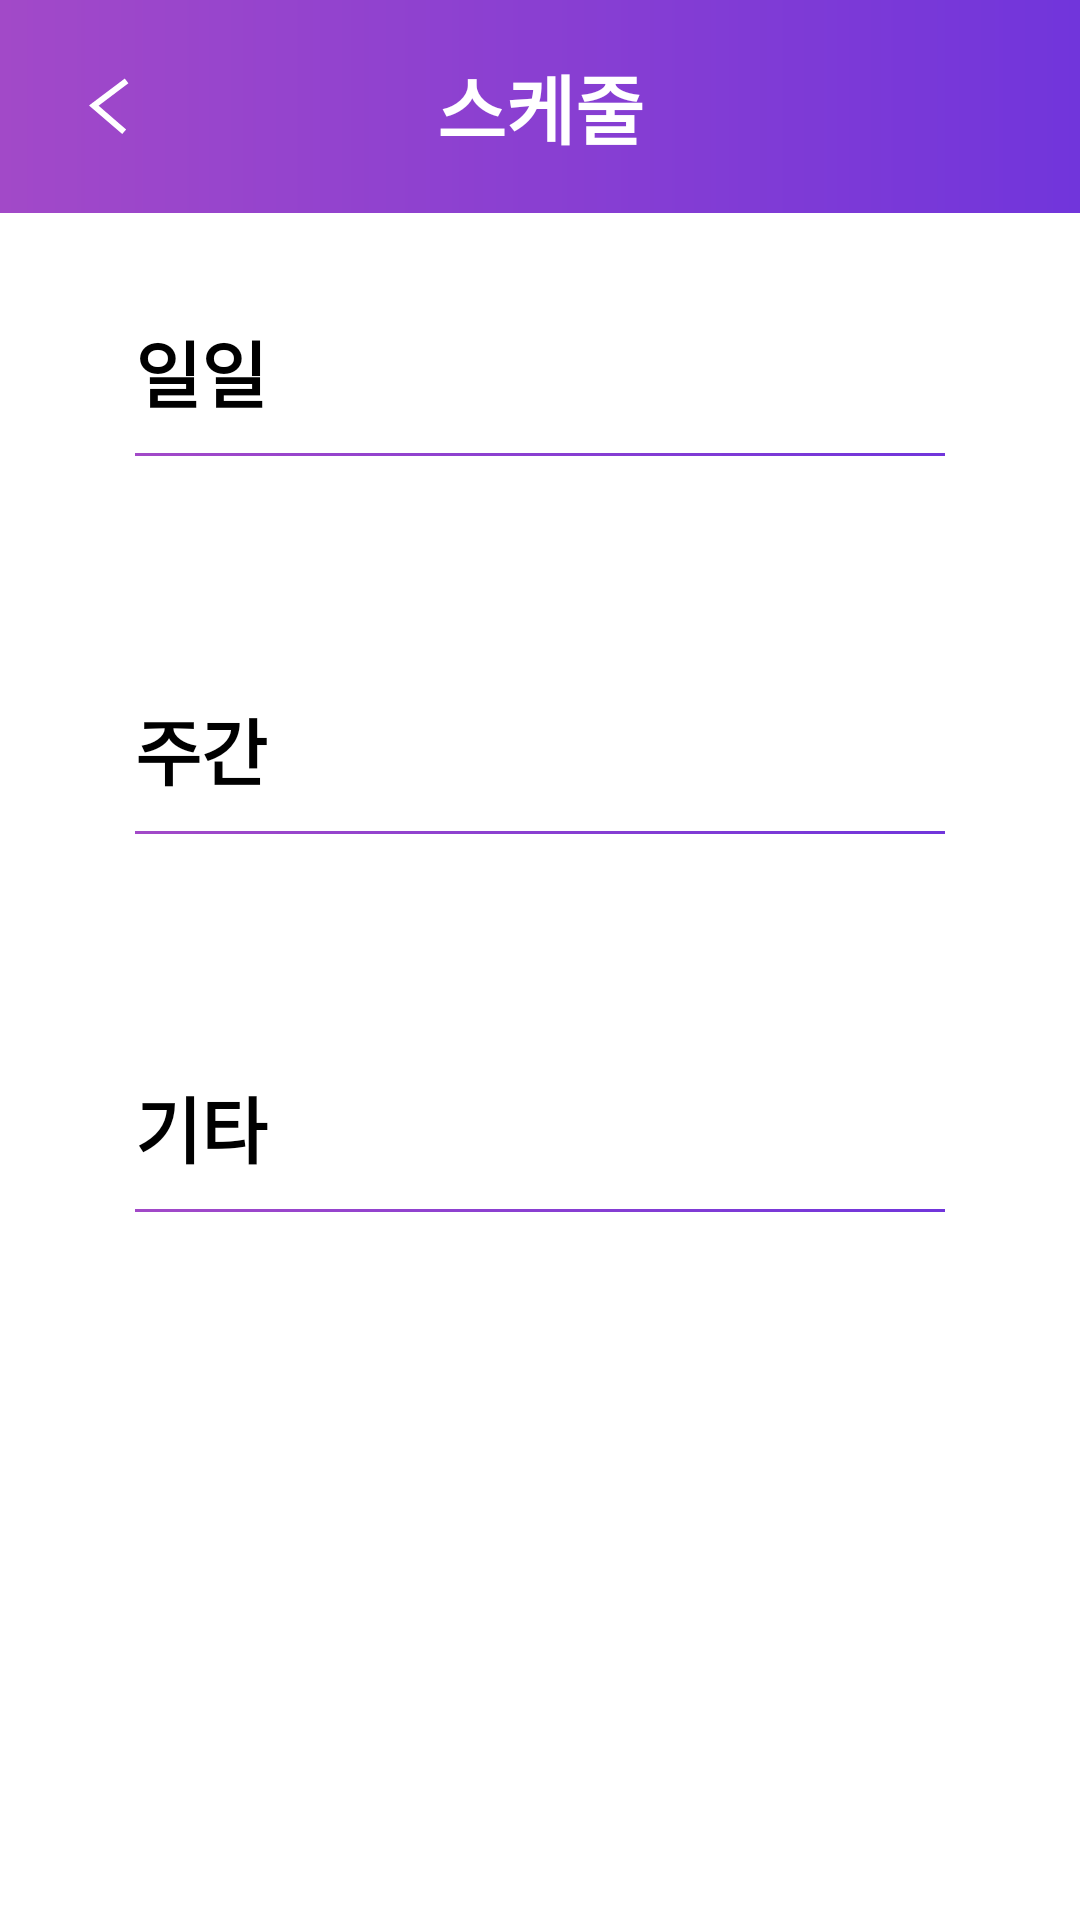

Named icons in this screenshot (1080×1920) and their bounding boxes, [x1, y1, x2, y2]:
back: [89, 78, 129, 134]
